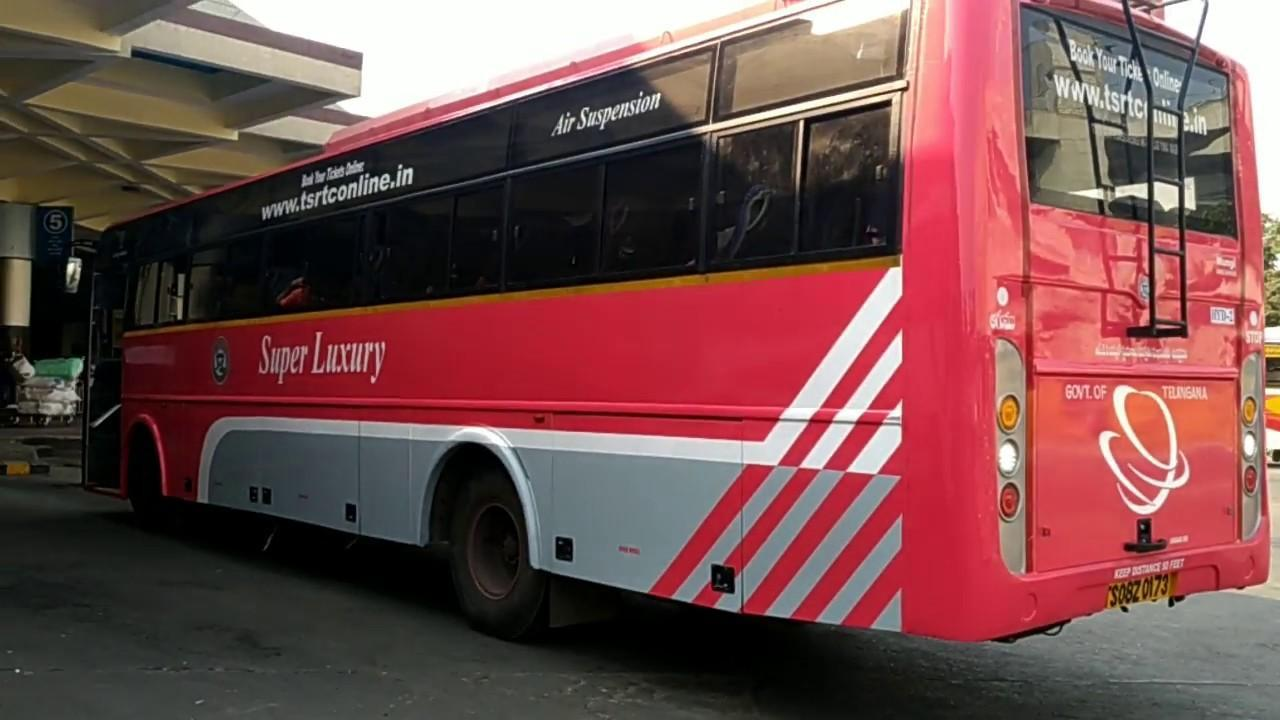Bus: (81, 0, 1279, 645)
